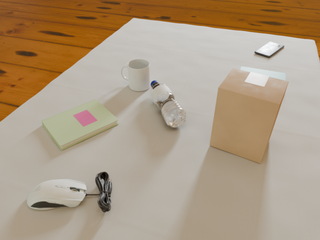book: (42, 99, 119, 150), (240, 67, 285, 81)
bottle: (150, 81, 187, 128)
box: (210, 68, 288, 163)
cup: (121, 59, 150, 91)
mouse: (27, 179, 90, 210)
phone: (255, 42, 284, 58)
